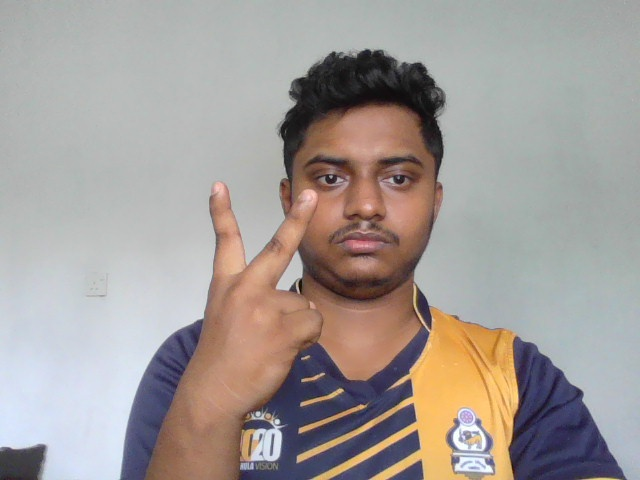See You: (184, 180, 324, 410)
